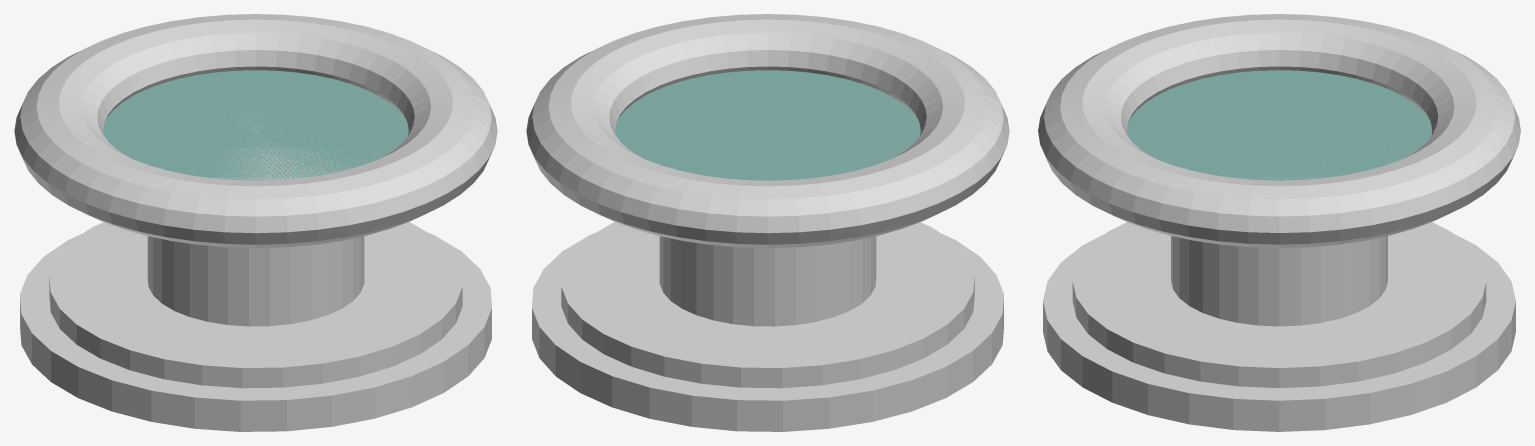
The picture shows the model from 3 angles, left to right: view 1: azimuth 30°, elevation 25°; view 2: azimuth 150°, elevation 25°; view 3: azimuth 270°, elevation 25°; orthographic projection.
Visible parts, largest first — view 1: Bowl, Mid_Ring, Water_Pool, Base_Bottom, Bowl_Base, Pedestal; view 2: Bowl, Mid_Ring, Water_Pool, Base_Bottom, Bowl_Base, Pedestal; view 3: Bowl, Mid_Ring, Water_Pool, Base_Bottom, Bowl_Base, Pedestal.
Part boxes in pixels (x1=…): Bowl: x1=14, y1=14, x2=497, y2=248; Mid_Ring: x1=49, y1=222, x2=462, y2=388; Water_Pool: x1=103, y1=70, x2=408, y2=180; Base_Bottom: x1=20, y1=233, x2=491, y2=431; Bowl_Base: x1=103, y1=71, x2=408, y2=180; Pedestal: x1=147, y1=236, x2=364, y2=326; Bowl: x1=526, y1=14, x2=1009, y2=248; Mid_Ring: x1=561, y1=222, x2=974, y2=388; Water_Pool: x1=615, y1=70, x2=920, y2=180; Base_Bottom: x1=532, y1=233, x2=1003, y2=431; Bowl_Base: x1=615, y1=71, x2=920, y2=179; Pedestal: x1=659, y1=236, x2=876, y2=326; Bowl: x1=1038, y1=14, x2=1520, y2=247; Mid_Ring: x1=1072, y1=222, x2=1486, y2=388; Water_Pool: x1=1126, y1=70, x2=1432, y2=180; Base_Bottom: x1=1043, y1=234, x2=1515, y2=431; Bowl_Base: x1=1127, y1=70, x2=1431, y2=180; Pedestal: x1=1171, y1=236, x2=1387, y2=326.
Size of the model in its own units: 4.9 by 2.56 by 4.9.
